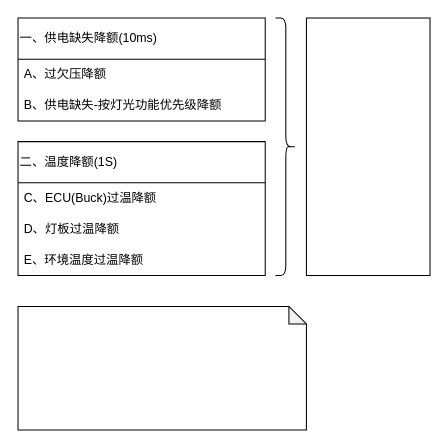
Image size: 448x448. Some labels were removed from this diagram. Each missing label, with the centre of its shape:
"1.取得各通道电流降额百分比 2.取得各通道当前电流降额的原因： ECU降额 灯板降额 环温降额 过欠压降额 供电缺失降额" goes at [161,367].
"在灯光功能控制中 做降额控制" goes at [367,146].
